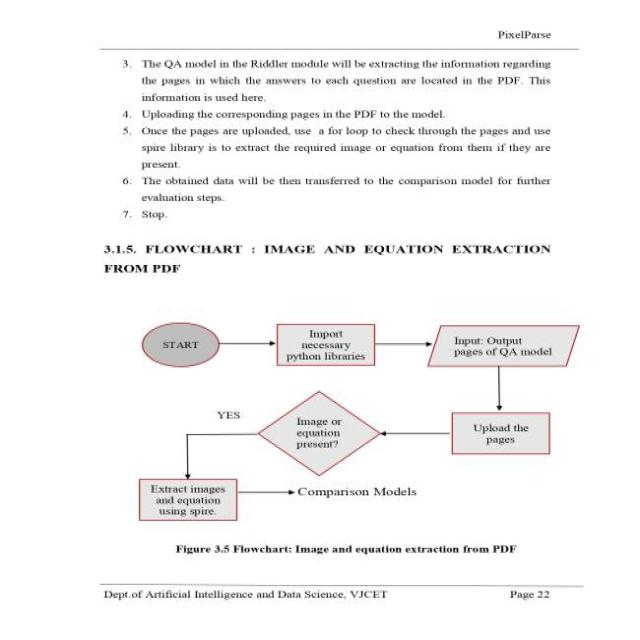Figure Detection - v3 Dataset Version2: (121, 305, 607, 531)
